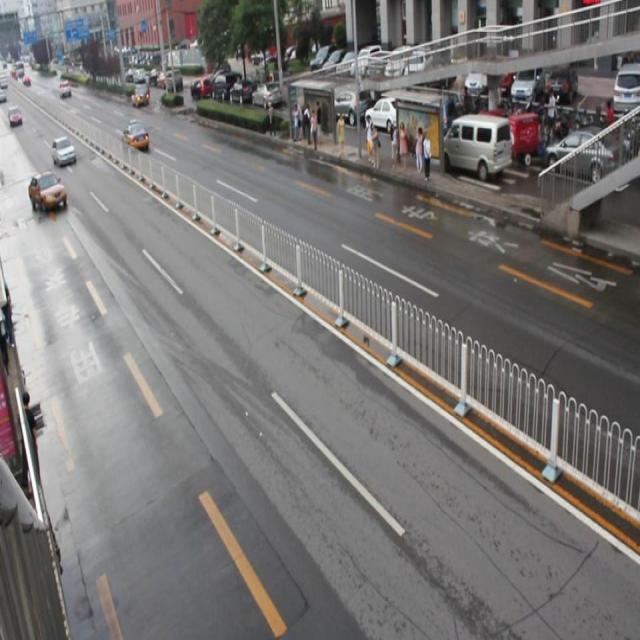car: (28, 171, 68, 212), (120, 120, 150, 149)
